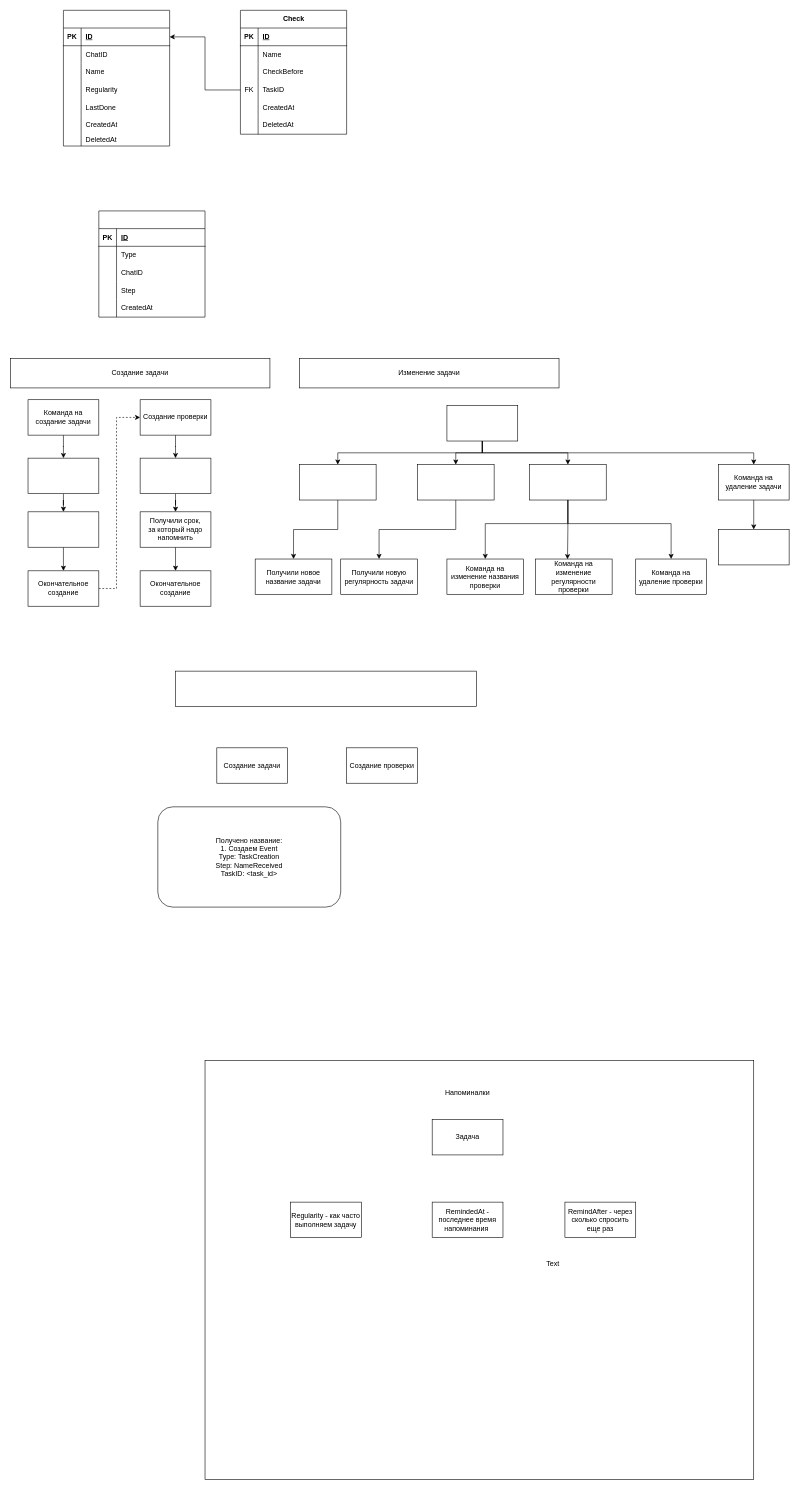
Some shapes in this 799 by 1490 pixel diagram are drawn without their labels. The box of each missing label's shape, as (x1, y1, x2, y2) in pixels:
Event: (98, 210, 205, 317)
Task: (63, 10, 170, 146)
Команда на изменение задачи: (446, 405, 518, 441)
Команда на изменение названия задачи: (299, 464, 376, 500)
Команда на изменение проверки: (529, 464, 606, 500)
Команда на изменение регулярности задачи: (417, 464, 494, 500)
Многоступенчатые действия (где понадобятся события): (175, 671, 476, 707)
Получили название задачи: (27, 458, 99, 494)
Получили название проверки: (140, 458, 211, 494)
Получили регулярность: (27, 511, 99, 547)
Удаление задачи: (718, 529, 789, 565)
